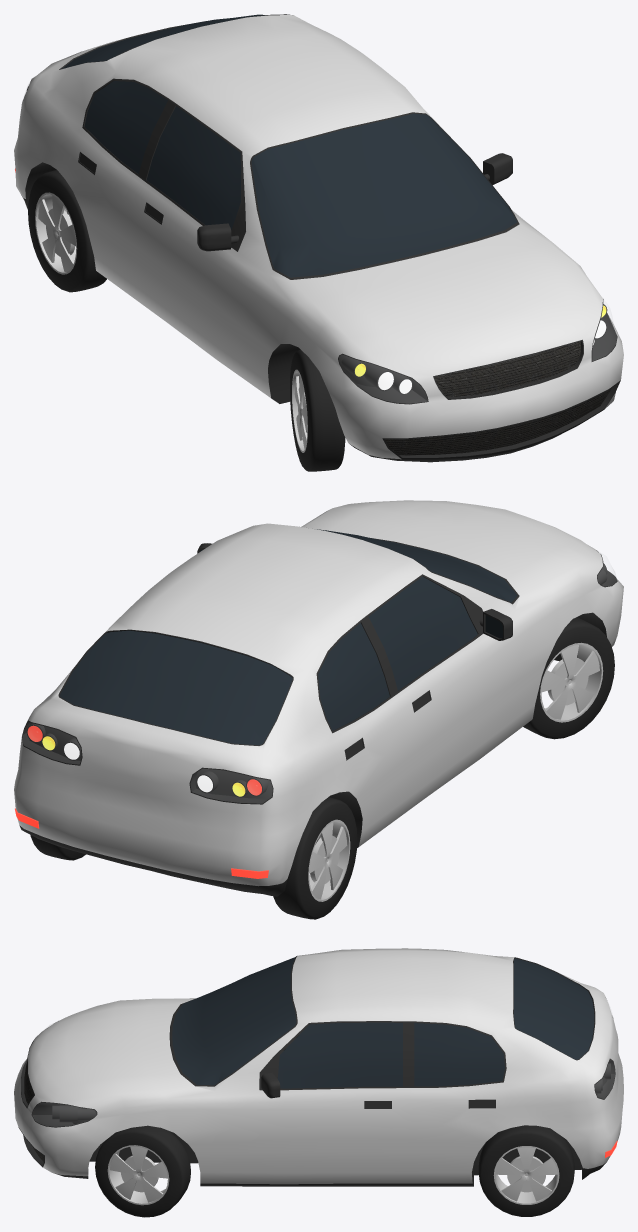
Rendered from car-8.glb.
3 renders of one model, top to bottom at view 1: azimuth 30°, elevation 25°; view 2: azimuth 150°, elevation 25°; view 3: azimuth 270°, elevation 25°, orthographic. The views are drawn at different scales.
Parts seen in each view (by area): view 1: CarBody2, WheelRR.003, WheelFR.003; view 2: CarBody2, WheelFR.003, WheelRR.003, WheelRL.003; view 3: CarBody2, WheelRL.003, WheelFL.003.
Boxes of the visible parts, bbox=[...] form: CarBody2: bbox=[14, 14, 623, 462]; WheelRR.003: bbox=[28, 170, 106, 292]; WheelFR.003: bbox=[290, 350, 345, 471]; CarBody2: bbox=[14, 500, 623, 896]; WheelFR.003: bbox=[523, 617, 614, 739]; WheelRR.003: bbox=[273, 797, 357, 919]; WheelRL.003: bbox=[30, 835, 85, 860]; CarBody2: bbox=[14, 948, 623, 1186]; WheelRL.003: bbox=[478, 1125, 574, 1216]; WheelFL.003: bbox=[95, 1125, 190, 1217].
Bounding box in the file's own units: 2.05 × 1.54 × 4.43.
11 materials, 1 textured.
